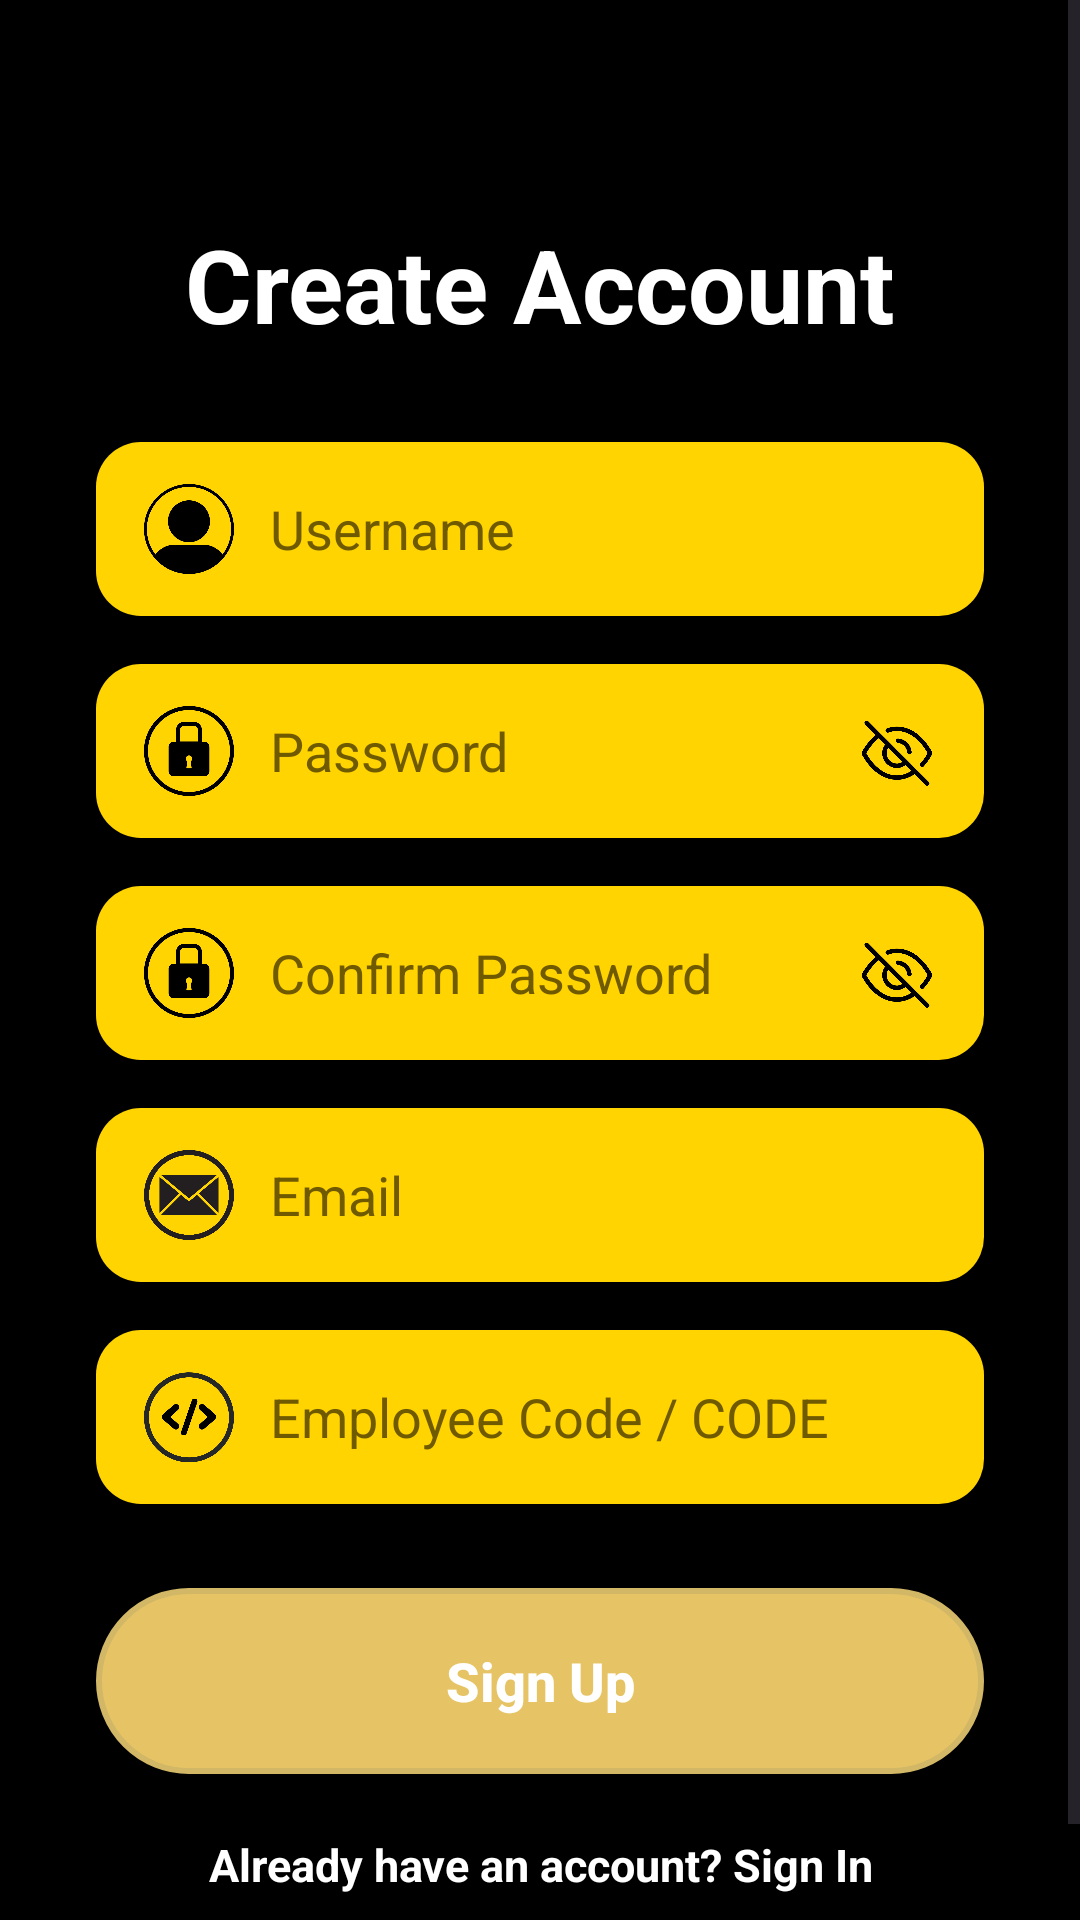

Point at icon controls on the screen. Image size 1080 × 1920, points as point (x, y).
eye off: point (897, 753), point (897, 975)
lock: point (189, 751), point (189, 973)
